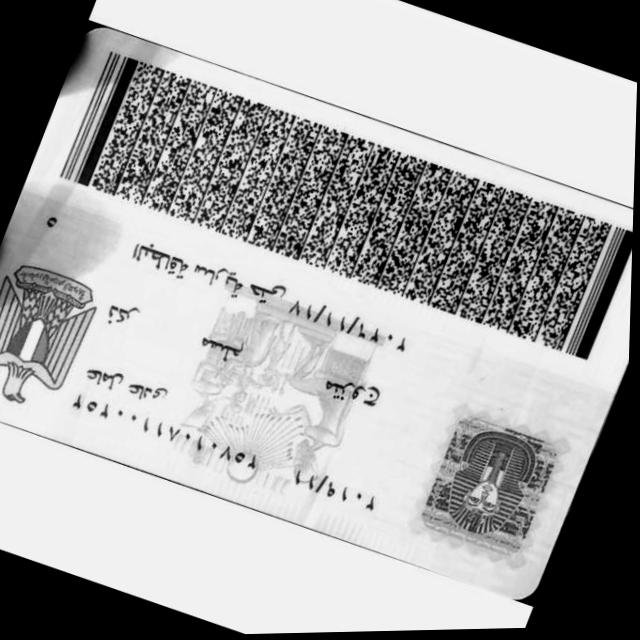id_card: (0, 29, 633, 596)
